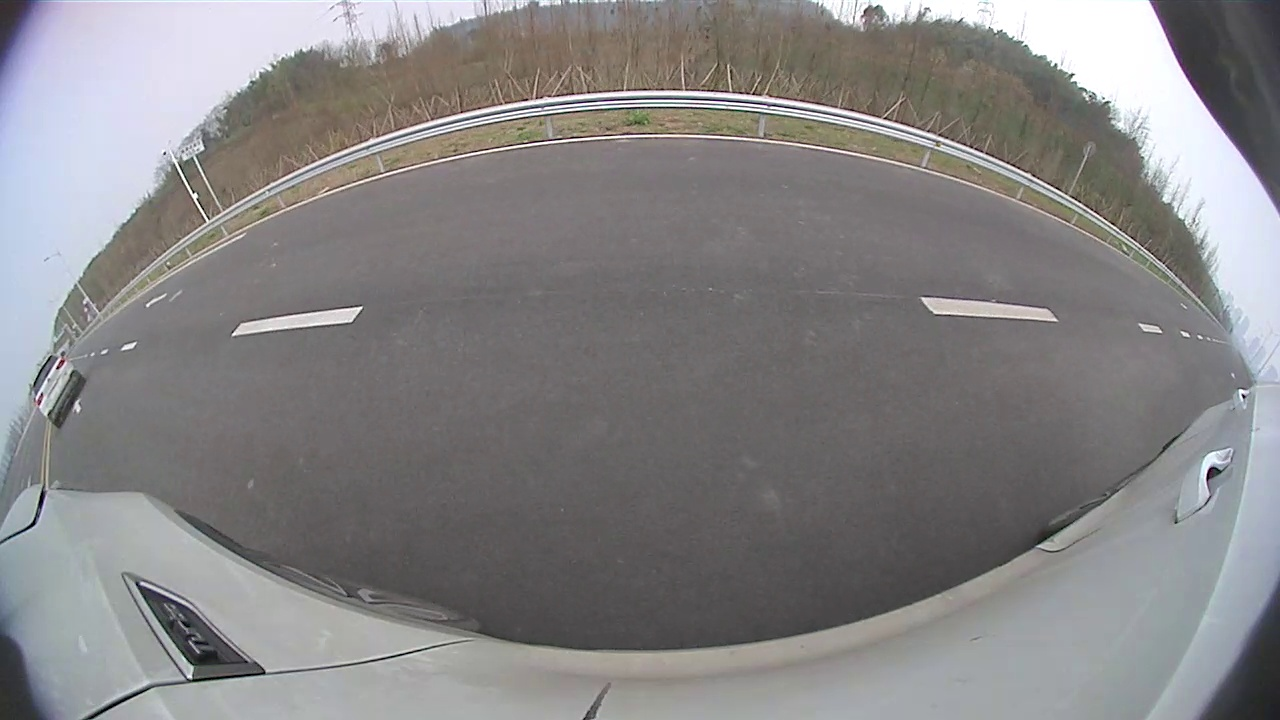car: (30, 353, 88, 428)
